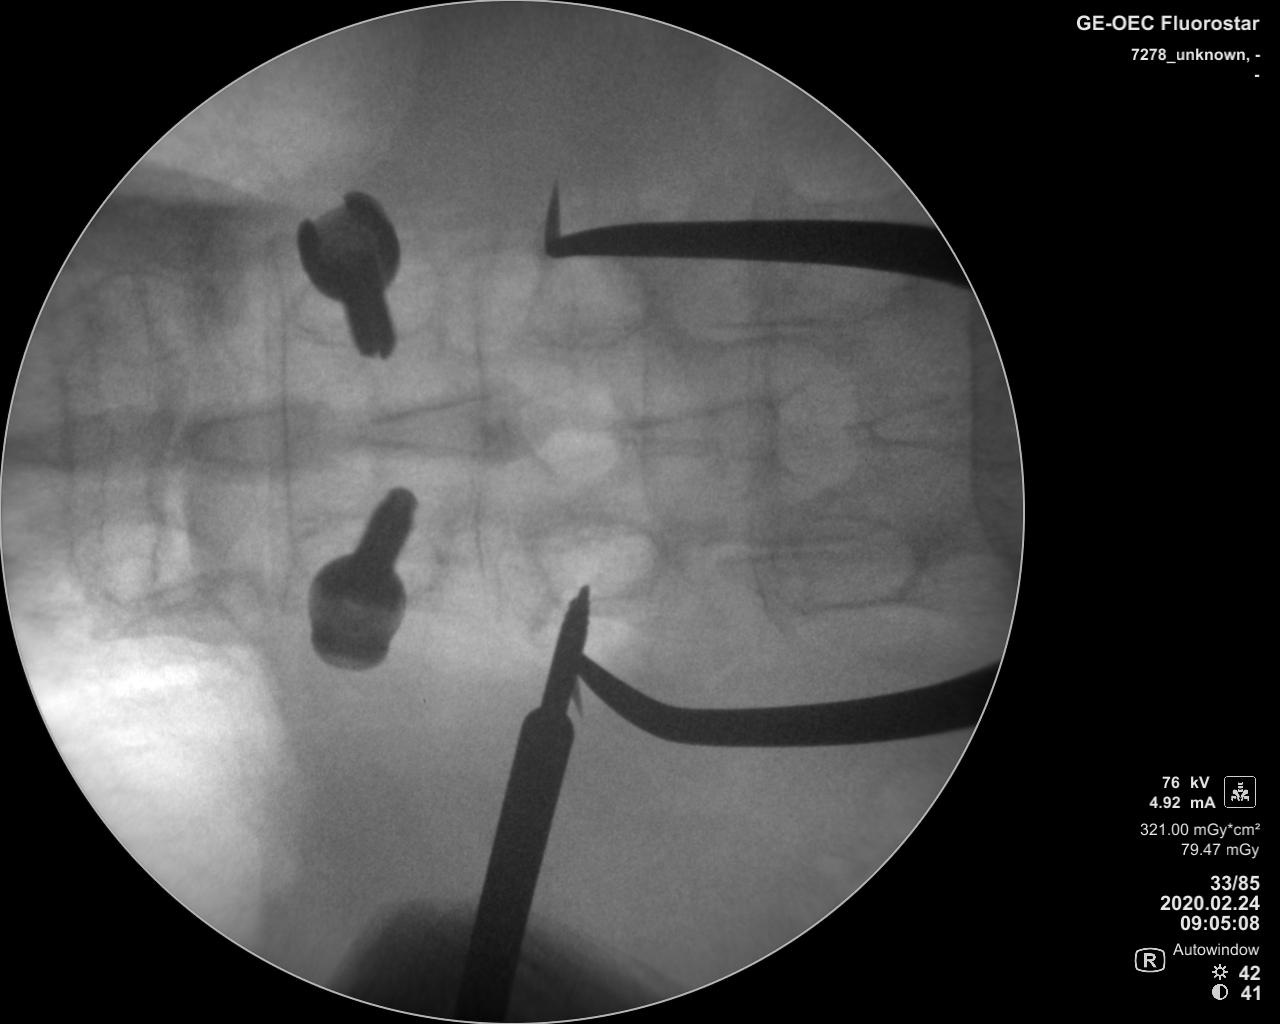eyes: (771, 515, 918, 621), (292, 511, 445, 597), (79, 270, 213, 360), (287, 259, 441, 338), (526, 254, 651, 349), (535, 520, 664, 606), (78, 521, 220, 599)
line: (264, 247, 299, 607), (462, 242, 492, 591), (957, 309, 991, 566), (750, 281, 779, 564), (634, 299, 655, 548)
nose: (343, 389, 544, 466), (10, 405, 176, 484), (847, 391, 1008, 465), (599, 399, 782, 463), (183, 403, 322, 476)
